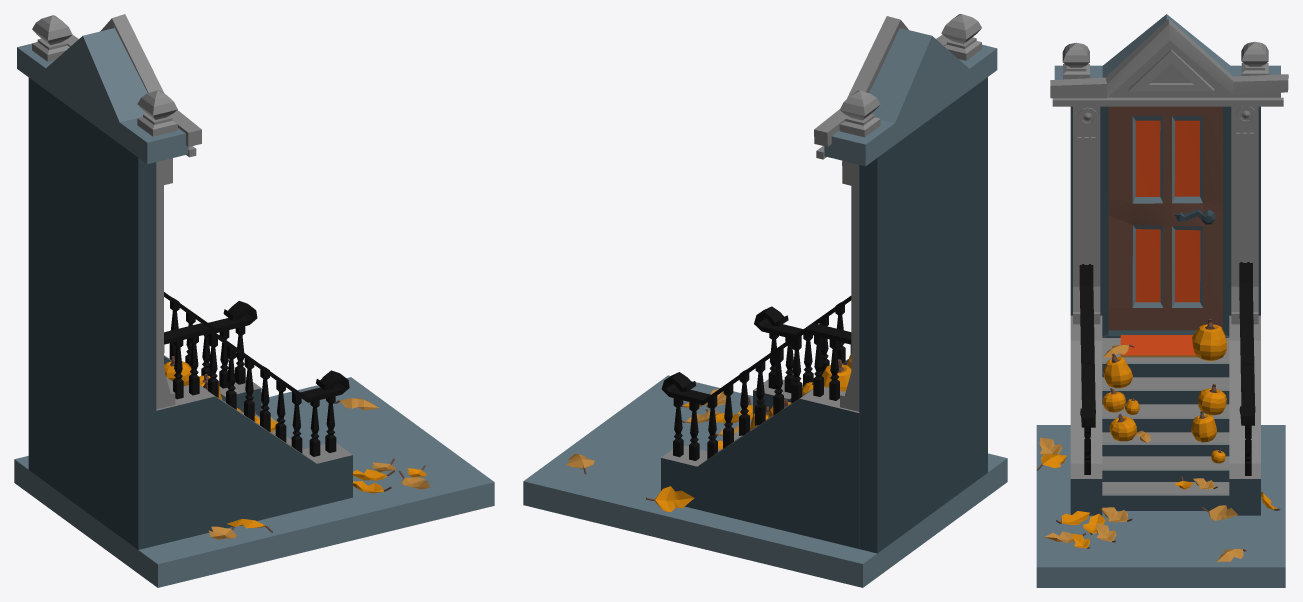
Rendered from door.glb.
3 views of the same model, side by side, from view 1: azimuth 30°, elevation 25°; view 2: azimuth 150°, elevation 25°; view 3: azimuth 270°, elevation 25° (orthographic). The views are drawn at different scales.
Parts seen in each view (by area): view 1: node_MeshObject-421734400-PolyPaper17; view 2: node_MeshObject-421734400-PolyPaper17; view 3: node_MeshObject-421734400-PolyPaper17.
Part boxes in pixels (x1,y1,x2,y2): node_MeshObject-421734400-PolyPaper17: (14, 14, 494, 587); node_MeshObject-421734400-PolyPaper17: (523, 14, 1007, 587); node_MeshObject-421734400-PolyPaper17: (1036, 14, 1288, 587).
Bounding box in the file's own units: 1.49 × 2.15 × 1.11.
